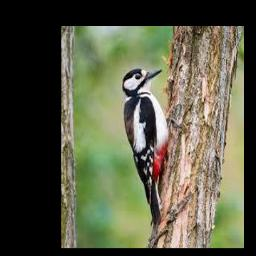Woodpecker: (122, 69, 169, 227)
